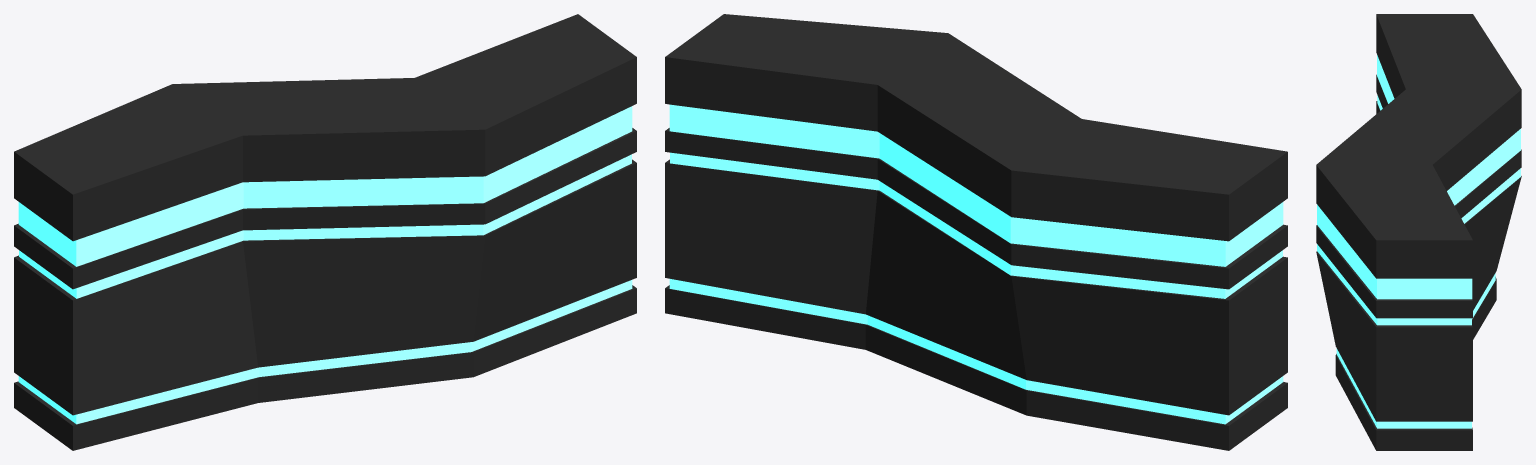
Rendered from Low Wall Distorted.fbx.
The picture shows the model from 3 angles, left to right: view 1: azimuth 30°, elevation 25°; view 2: azimuth 150°, elevation 25°; view 3: azimuth 270°, elevation 25°; orthographic projection. The views are drawn at different scales.
Visible parts, largest first — view 1: Low Wall Distorted; view 2: Low Wall Distorted; view 3: Low Wall Distorted.
Boxes of the visible parts, <box> form: Low Wall Distorted: <box>14,14,636,450</box>; Low Wall Distorted: <box>665,14,1287,450</box>; Low Wall Distorted: <box>1316,14,1521,450</box>.
Size of the model in its own units: 619 by 238 by 269.
